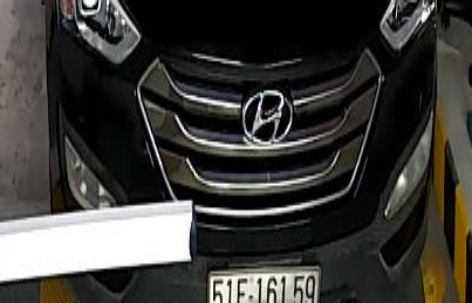plate: (204, 260, 322, 303)
